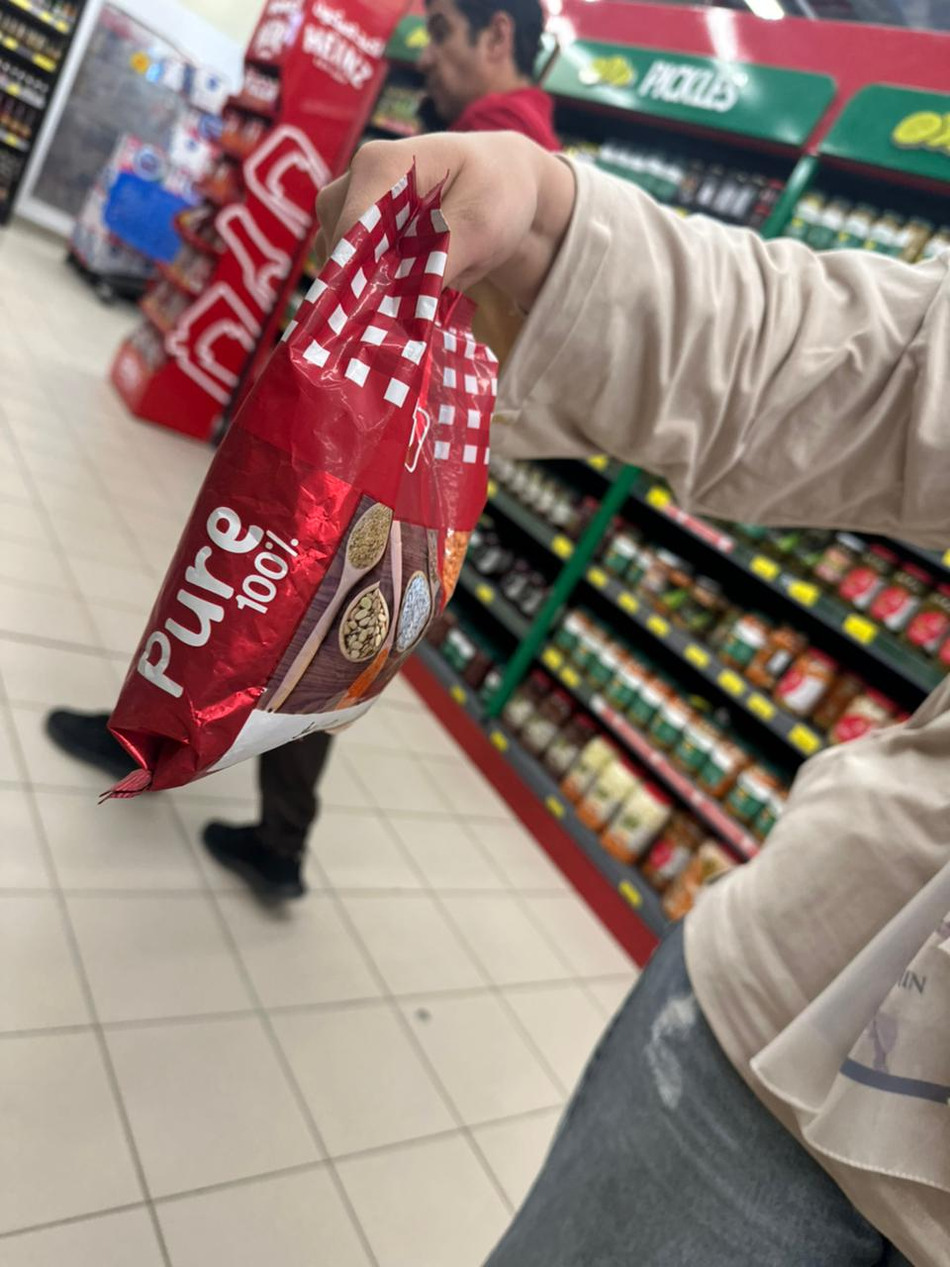lentils: (111, 173, 496, 794)
